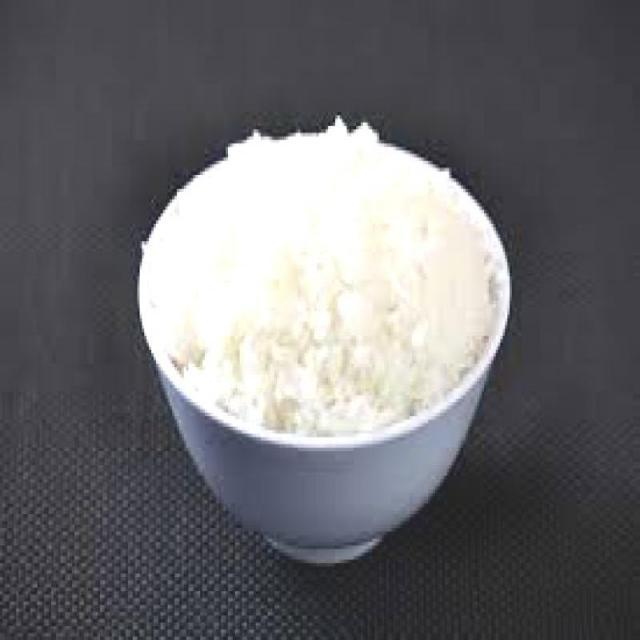rice: (149, 120, 495, 439)
